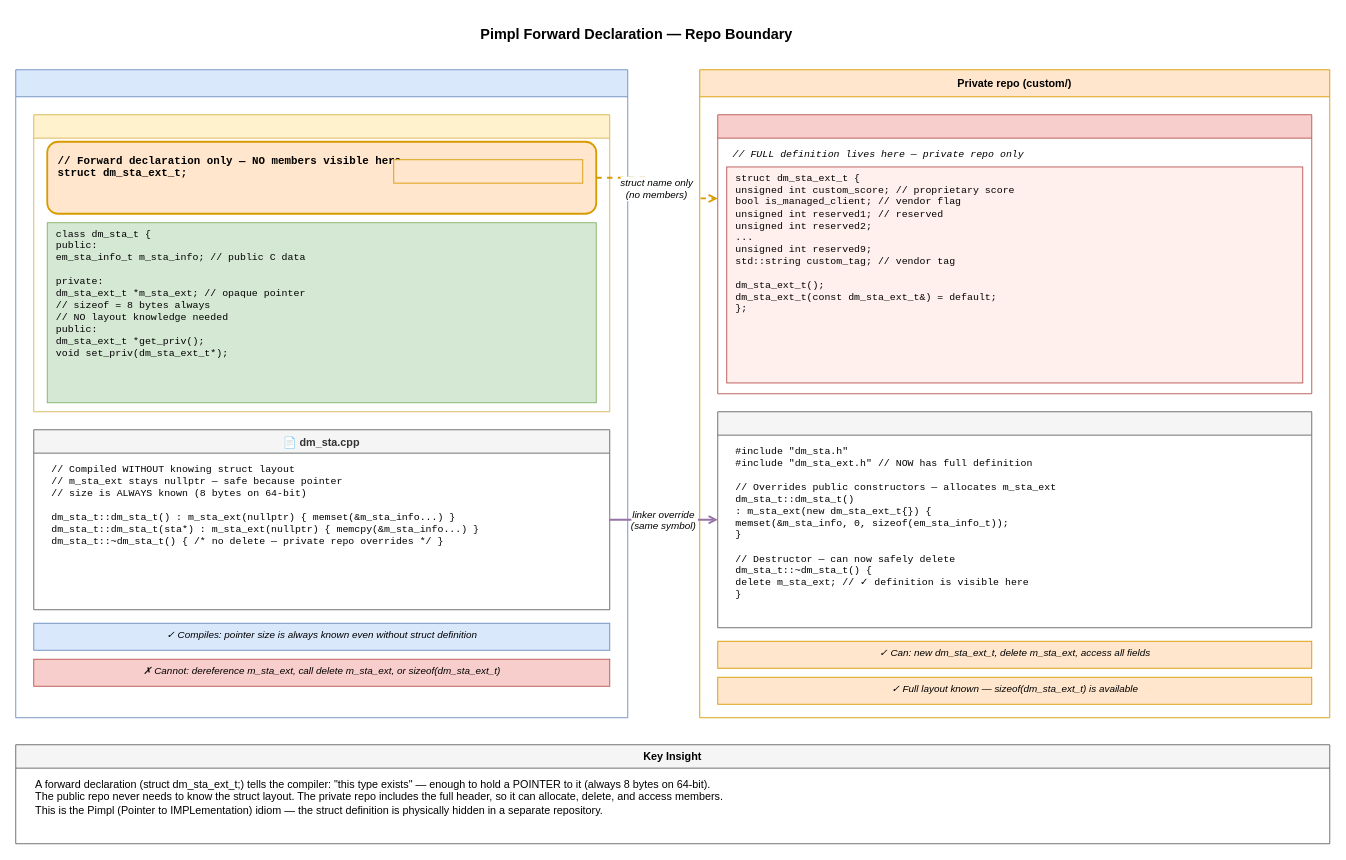
Image size: 1346x860. Some labels were removed from this diagram. Each missing label, with the box of its shape:
Public repo (unified-wifi-mesh): (15, 69, 628, 718)
← FORWARD DECL ONLY: (393, 159, 583, 183)
📄 custom/inc/dm_sta_ext.h: (717, 114, 1312, 394)
📄 custom/src/dm_sta_ext.cpp: (717, 411, 1312, 628)
📄 dm_sta.h: (33, 114, 610, 412)
